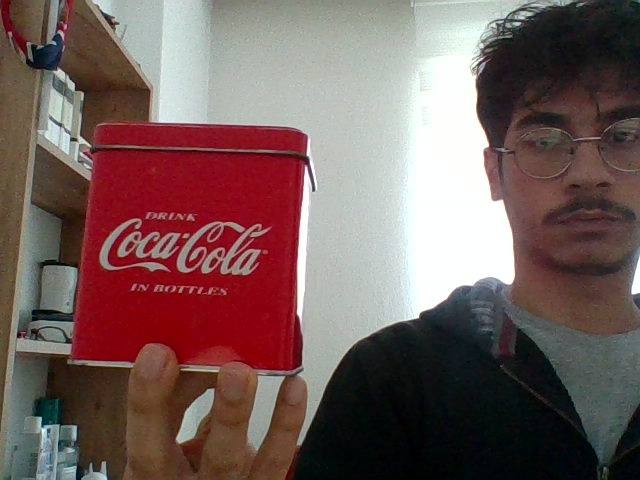CocaColaBox: (83, 122, 304, 370)
